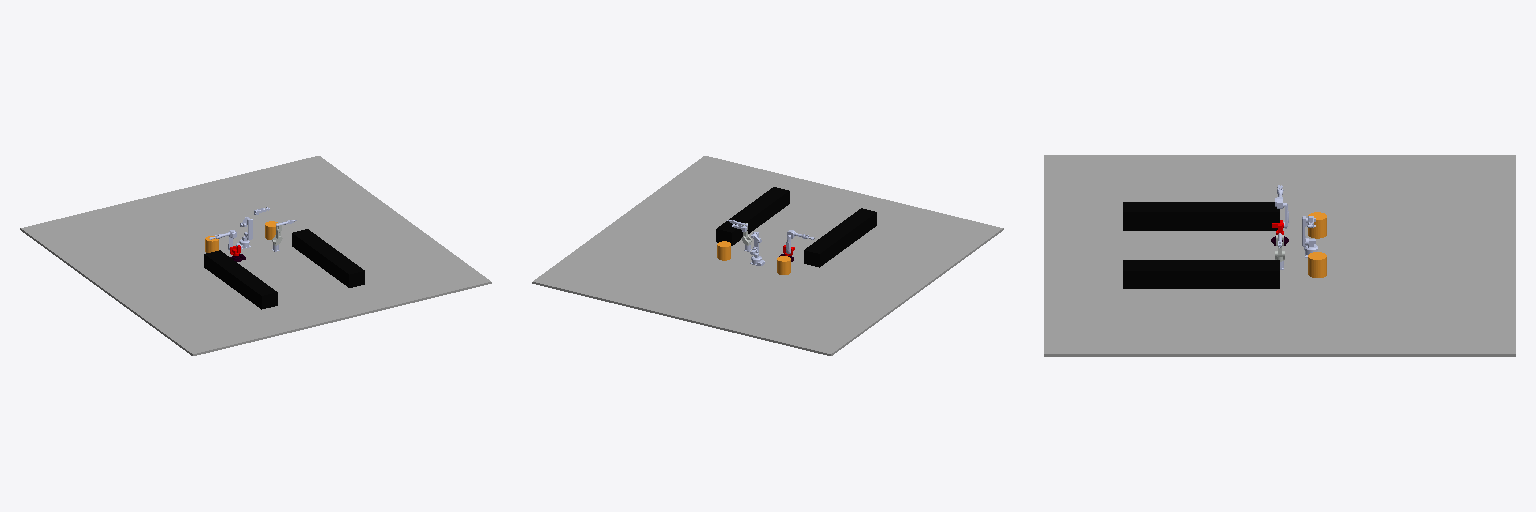
--- What the picture shows (computed from the rendered views, not written in the file) ---
3 views of the same robot in one strip: view 1: azimuth 30°, elevation 25°; view 2: azimuth 150°, elevation 25°; view 3: azimuth 270°, elevation 25° (orthographic).
Model my_robot with 33 links and 32 joints (18 revolute, 14 fixed), rooted at central_base_link, posed every joint at zero.
Links seen in each view (by area): view 1: main_workbench, main_workbench_3, main_workbench_2; view 2: main_workbench, main_workbench_3, main_workbench_2; view 3: main_workbench, main_workbench_2, main_workbench_3.
Link boxes in pixels (x1=…): main_workbench: x1=20, y1=156, x2=491, y2=355; main_workbench_3: x1=204, y1=250, x2=277, y2=309; main_workbench_2: x1=292, y1=229, x2=364, y2=287; main_workbench: x1=532, y1=156, x2=1003, y2=355; main_workbench_3: x1=804, y1=208, x2=876, y2=267; main_workbench_2: x1=716, y1=187, x2=789, y2=245; main_workbench: x1=1044, y1=155, x2=1515, y2=356; main_workbench_2: x1=1123, y1=260, x2=1279, y2=288; main_workbench_3: x1=1123, y1=202, x2=1279, y2=230.
Size in the robot's own frame: 15 by 15 by 1.7 metres.
Meshes: 26 distinct files referenced, 25 mesh visuals loaded (25 binary STL); not drawn: 2 (reference not matched to a file when rendering).

The robot description file, URDF, robot "my_robot":
<?xml version="1.0" ?>
<!-- =================================================================================== -->
<!-- |    This document was autogenerated by xacro from ../my_robot_urdf/urdf/robot.xacro | -->
<!-- |    EDITING THIS FILE BY HAND IS NOT RECOMMENDED                                 | -->
<!-- =================================================================================== -->
<robot name="my_robot">
    <link name="main_workbench">
        <inertial>
            <origin rpy="0 0 0" xyz="0 0 0.05" />
            <mass value="1000.0" />
            <inertia ixx="100" ixy="0" ixz="0" iyy="100" iyz="0" izz="100" />
        </inertial>
        <visual>
            <origin rpy="0 0 0" xyz="0 0 0.05" />
            <geometry>
                <box size="15 15 0.1" />
            </geometry>
            <material name="light_grey">
                <color rgba="0.7 0.7 0.7 1" />
                <!-- White grey color -->
            </material>
        </visual>
        <collision>
            <origin rpy="0 0 0" xyz="0 0 0.05" />
            <geometry>
                <box size="15 15 0.1" />
            </geometry>
        </collision>
    </link>
    <link name="main_workbench_2">
        <inertial>
            <origin rpy="0 0 0" xyz="0 0 0.375" />
            <mass value="1000.0" />
            <inertia ixx="100" ixy="0" ixz="0" iyy="100" iyz="0" izz="100" />
        </inertial>
        <visual>
            <origin rpy="0 0 0" xyz="0 0 0.375" />
            <geometry>
                <box size="0.8 5 0.75" />
            </geometry>
            <material name="rubber_black">
                <color rgba="0.05 0.05 0.05 1" />
                <!-- Dark grey to mimic black rubber -->
            </material>
        </visual>
        <collision>
            <origin rpy="0 0 0" xyz="0 0 0.375" />
            <geometry>
                <box size="0.8 5 0.75" />
            </geometry>
        </collision>
    </link>
    <link name="main_workbench_3">
        <inertial>
            <origin rpy="0 0 0" xyz="0 0 0.375" />
            <mass value="1000.0" />
            <inertia ixx="100" ixy="0" ixz="0" iyy="100" iyz="0" izz="100" />
        </inertial>
        <visual>
            <origin rpy="0 0 0" xyz="0 0 0.375" />
            <geometry>
                <box size="0.8 5 0.75" />
            </geometry>
            <material name="rubber_black">
                <color rgba="0.05 0.05 0.05 1" />
                <!-- Dark grey to mimic black rubber -->
            </material>
        </visual>
        <collision>
            <origin rpy="0 0 0" xyz="0 0 0.375" />
            <geometry>
                <box size="0.8 5 0.75" />
            </geometry>
        </collision>
    </link>
    <link name="centrifuge_1">
        <inertial>
            <origin rpy="0 0 0" xyz="0 0 0.375" />
            <mass value="500.0" />
            <!-- Assume a lighter mass for a centrifuge -->
            <inertia ixx="50" ixy="0" ixz="0" iyy="50" iyz="0" izz="50" />
            <!-- Adjusted inertia values for balance -->
        </inertial>
        <visual>
            <origin rpy="0 0 0" xyz="0 0 0.375" />
            <geometry>
                <cylinder length="0.75" radius="0.3" />
            </geometry>
            <material name="light_orange">
                <color rgba="1 0.65 0.2 1" />
                <!-- Light orange color -->
            </material>
        </visual>
        <collision>
            <origin rpy="0 0 0" xyz="0 0 0.375" />
            <geometry>
                <cylinder length="0.75" radius="0.3" />
            </geometry>
        </collision>
    </link>
    <link name="centrifuge_2">
        <inertial>
            <origin rpy="0 0 0" xyz="0 0 0.375" />
            <mass value="500.0" />
            <!-- Assume a lighter mass for a centrifuge -->
            <inertia ixx="50" ixy="0" ixz="0" iyy="50" iyz="0" izz="50" />
            <!-- Adjusted inertia values for balance -->
        </inertial>
        <visual>
            <origin rpy="0 0 0" xyz="0 0 0.375" />
            <geometry>
                <cylinder length="0.75" radius="0.3" />
            </geometry>
            <material name="light_orange">
                <color rgba="1 0.65 0.2 1" />
                <!-- Light orange color -->
            </material>
        </visual>
        <collision>
            <origin rpy="0 0 0" xyz="0 0 0.375" />
            <geometry>
                <cylinder length="0.75" radius="0.3" />
            </geometry>
        </collision>
    </link>
    <link name="centrifuge_link_1">
        <inertial>
            <origin rpy="0 0 0" xyz="0 0 0" />
            <mass value="1.0" />
            <inertia ixx="0.1" ixy="0" ixz="0" iyy="0.1" iyz="0" izz="0.1" />
        </inertial>
        <visual>
            <origin rpy="0 0 0" xyz="0 0 0" />
            <geometry>
                <mesh filename="package://my_robot_urdf/models/centrifuge.dae" scale="1 1 1" />
                <!-- Adjust scale as needed -->
            </geometry>
        </visual>
        <collision>
            <origin rpy="0 0 0" xyz="0 0 0" />
            <geometry>
                <mesh filename="package://my_robot_urdf/models/centrifuge.dae" scale="1 1 1" />
                <!-- Adjust scale as needed -->
            </geometry>
        </collision>
    </link>
    <link name="centrifuge_link_2">
        <inertial>
            <origin rpy="0 0 0" xyz="0 0 0" />
            <mass value="1.0" />
            <inertia ixx="0.1" ixy="0" ixz="0" iyy="0.1" iyz="0" izz="0.1" />
        </inertial>
        <visual>
            <origin rpy="0 0 0" xyz="0 0 0" />
            <geometry>
                <mesh filename="package://my_robot_urdf/models/centrifuge.dae" scale="1 1 1" />
                <!-- Adjust scale as needed -->
            </geometry>
        </visual>
        <collision>
            <origin rpy="0 0 0" xyz="0 0 0" />
            <geometry>
                <mesh filename="package://my_robot_urdf/models/centrifuge.dae" scale="1 1 1" />
                <!-- Adjust scale as needed -->
            </geometry>
        </collision>
    </link>
    <!-- Main body link (central base link) -->
    <link name="central_base_link">
        <origin rpy="0 0 0" xyz="0 0 1.5" />
        <!-- Adjusted to be above the workbench -->
    </link>
    <!-- Connect each workbench to the central base link with a fixed joint -->
    <joint name="base_to_workbench_1_joint" type="fixed">
        <parent link="central_base_link" />
        <child link="main_workbench" />
        <origin rpy="0 0 0" xyz="0 0 0" />
    </joint>
    <joint name="base_to_workbench_2_joint" type="fixed">
        <parent link="central_base_link" />
        <child link="main_workbench_2" />
        <origin rpy="0 0 0" xyz="2.2 -2.5 0" />
    </joint>
    <joint name="base_to_workbench_3_joint" type="fixed">
        <parent link="central_base_link" />
        <child link="main_workbench_3" />
        <origin rpy="0 0 0" xyz="-2.2 -2.5 0" />
    </joint>
    <!-- Connect each centrifuge to the central base link with a fixed joint -->
    <joint name="base_to_centrifuge_1_joint" type="fixed">
        <parent link="central_base_link" />
        <child link="centrifuge_1" />
        <origin rpy="0 0 0" xyz="1.5 1.2 0" />
    </joint>
    <joint name="base_to_centrifuge_2_joint" type="fixed">
        <parent link="central_base_link" />
        <child link="centrifuge_2" />
        <origin rpy="0 0 0" xyz="-1.5 1.2 0" />
    </joint>
    <joint name="base_to_centrifuge_model_1_joint" type="fixed">
        <parent link="central_base_link" />
        <child link="centrifuge_link_1" />
        <origin rpy="1.570796326795 0 0" xyz="1.5 1.2 0.9379" />
    </joint>
    <joint name="base_to_centrifuge_model_2_joint" type="fixed">
        <parent link="central_base_link" />
        <child link="centrifuge_link_2" />
        <origin rpy="1.570796326795 0 0" xyz="-1.5 1.2 0.9379" />
    </joint>
    <link name="alex_base_link_alex">
        <inertial>
            <origin rpy="0 0 0" xyz="-0.05930869488714 -2.87595388123997E-12 0.0776653157730273" />
            <mass value="33.891578448587" />
            <inertia ixx="0.562042604088221" ixy="-9.14377057009813E-12" ixz="0.00403961419511078" iyy="0.970694427805805" iyz="-7.30601565928646E-12" izz="1.29713482615658" />
        </inertial>
        <visual>
            <origin rpy="0 0 0" xyz="0 0 0" />
            <geometry>
                <mesh filename="package://my_robot_urdf/meshes/base_link_alex.STL" />
            </geometry>
            <material name="">
                <color rgba="0.152941176470588 0 0.117647058823529 1" />
            </material>
        </visual>
        <collision>
            <origin rpy="0 0 0" xyz="0 0 0" />
            <geometry>
                <mesh filename="package://my_robot_urdf/meshes/base_link_alex.STL" />
            </geometry>
        </collision>
    </link>
    <!-- Define the joint connecting this arm to the parent link -->
    <joint name="alex_base_joint_alex" type="fixed">
        <origin rpy="0 0 3.14159265359" xyz="-1 0 0.1" />
        <parent link="central_base_link" />
        <child link="alex_base_link_alex" />
    </joint>
    <link name="alex_arm_link_1_alex">
        <inertial>
            <origin rpy="0 0 0" xyz="0.0416589398280025 -3.68988089329334E-05 0.19712083516126" />
            <mass value="26.7048266497369" />
            <inertia ixx="0.495499615132855" ixy="-0.0102760504758245" ixz="-0.0600935399650257" iyy="0.766768677077223" iyz="-0.0115358881770517" izz="0.604967931690783" />
        </inertial>
        <visual>
            <origin rpy="0 0 0" xyz="0 0 0" />
            <geometry>
                <mesh filename="package://my_robot_urdf/meshes/arm_link_1_alex.STL" />
            </geometry>
            <material name="">
                <color rgba="1 0 0 1" />
            </material>
        </visual>
        <collision>
            <origin rpy="0 0 0" xyz="0 0 0" />
            <geometry>
                <mesh filename="package://my_robot_urdf/meshes/arm_link_1_alex.STL" />
            </geometry>
        </collision>
    </link>
    <joint name="alex_arm_joint_1_alex" type="revolute">
        <origin rpy="0 0 0" xyz="0 0 0.234" />
        <parent link="alex_base_link_alex" />
        <child link="alex_arm_link_1_alex" />
        <axis xyz="0 0 1" />
        <limit effort="0" lower="-3.1416" upper="3.1416" velocity="0" />
    </joint>
    <link name="alex_arm_link_2_alex">
        <inertial>
            <origin rpy="0 0 0" xyz="0.000258724363916746 -0.0707589768311214 0.290203503422467" />
            <mass value="14.3270690802686" />
            <inertia ixx="0.848873613210201" ixy="0.000175299197197544" ixz="-4.64678003354308E-05" iyy="0.874803778149419" iyz="0.0137202067906074" izz="0.0504590836189902" />
        </inertial>
        <visual>
            <origin rpy="0 0 0" xyz="0 0 0" />
            <geometry>
                <mesh filename="package://my_robot_urdf/meshes/arm_link_2_alex.STL" />
            </geometry>
            <material name="">
                <color rgba="0.792156862745098 0.819607843137255 0.933333333333333 1" />
            </material>
        </visual>
        <collision>
            <origin rpy="0 0 0" xyz="0 0 0" />
            <geometry>
                <mesh filename="package://my_robot_urdf/meshes/arm_link_2_alex.STL" />
            </geometry>
        </collision>
    </link>
    <joint name="alex_arm_joint_2_alex" type="revolute">
        <origin rpy="0 0 0" xyz="0.15 -0.1375 0.265" />
        <parent link="alex_arm_link_1_alex" />
        <child link="alex_arm_link_2_alex" />
        <axis xyz="0 1 0" />
        <limit effort="0" lower="-3.1416" upper="3.1416" velocity="0" />
    </joint>
    <link name="alex_arm_link_3_alex">
        <inertial>
            <origin rpy="0 0 0" xyz="0.0362614171159604 0.143132908024542 0.0664637155357433" />
            <mass value="27.1450417424437" />
            <inertia ixx="0.344868303293537" ixy="0.00338242702861572" ixz="-0.0211648441841246" iyy="0.473964503565446" iyz="-0.00675660536457731" izz="0.420912669748457" />
        </inertial>
        <visual>
            <origin rpy="0 0 0" xyz="0 0 0" />
            <geometry>
                <mesh filename="package://my_robot_urdf/meshes/arm_link_3_alex.STL" />
            </geometry>
            <material name="">
                <color rgba="0.792156862745098 0.819607843137255 0.933333333333333 1" />
            </material>
        </visual>
        <collision>
            <origin rpy="0 0 0" xyz="0 0 0" />
            <geometry>
                <mesh filename="package://my_robot_urdf/meshes/arm_link_3_alex.STL" />
            </geometry>
        </collision>
    </link>
    <joint name="alex_arm_joint_3_alex" type="revolute">
        <origin rpy="0 0 0" xyz="0 0 0.7" />
        <parent link="alex_arm_link_2_alex" />
        <child link="alex_arm_link_3_alex" />
        <axis xyz="0 1 0" />
        <limit effort="0" lower="-3.1416" upper="3.1416" velocity="0" />
    </joint>
    <link name="alex_arm_link_4_alex">
        <inertial>
            <origin rpy="0 0 0" xyz="0.316053837217416 -9.61729624260159E-07 4.81067610857977E-07" />
            <mass value="9.30858027519608" />
            <inertia ixx="0.0348463133234508" ixy="7.6582656016075E-07" ixz="3.49084068434524E-07" iyy="0.25723918092213" iyz="0.000166705964846771" izz="0.264212206266023" />
        </inertial>
        <visual>
            <origin rpy="0 0 0" xyz="0 0 0" />
            <geometry>
                <mesh filename="package://my_robot_urdf/meshes/arm_link_4_alex.STL" />
            </geometry>
            <material name="">
                <color rgba="0.792156862745098 0.819607843137255 0.933333333333333 1" />
            </material>
        </visual>
        <collision>
            <origin rpy="0 0 0" xyz="0 0 0" />
            <geometry>
                <mesh filename="package://my_robot_urdf/meshes/arm_link_4_alex.STL" />
            </geometry>
        </collision>
    </link>
    <joint name="alex_arm_joint_4_alex" type="revolute">
        <origin rpy="0 0 0" xyz="0.29 0.13 0.115" />
        <parent link="alex_arm_link_3_alex" />
        <child link="alex_arm_link_4_alex" />
        <axis xyz="1 0 0" />
        <limit effort="0" lower="-3.1416" upper="3.1416" velocity="0" />
    </joint>
    <link name="alex_arm_link_5_alex">
        <inertial>
            <origin rpy="0 0 0" xyz="-0.00224018993807718 -4.63651143520205E-10 7.93515697594671E-10" />
            <mass value="0.961734748124672" />
            <inertia ixx="0.00154678090917305" ixy="1.419698244829E-11" ixz="-8.85889011205107E-10" iyy="0.00165625576362529" iyz="-9.91727417077089E-10" izz="0.00143991315628678" />
        </inertial>
        <visual>
            <origin rpy="0 0 0" xyz="0 0 0" />
            <geometry>
                <mesh filename="package://my_robot_urdf/meshes/arm_link_5_alex.STL" />
            </geometry>
            <material name="">
                <color rgba="0.792156862745098 0.819607843137255 0.933333333333333 1" />
            </material>
        </visual>
        <collision>
            <origin rpy="0 0 0" xyz="0 0 0" />
            <geometry>
                <mesh filename="package://my_robot_urdf/meshes/arm_link_5_alex.STL" />
            </geometry>
        </collision>
    </link>
    <joint name="alex_arm_joint_5_alex" type="revolute">
        <origin rpy="0 0 0" xyz="0.51 0 0" />
        <parent link="alex_arm_link_4_alex" />
        <child link="alex_arm_link_5_alex" />
        <axis xyz="0 1 0" />
        <limit effort="0" lower="-3.1416" upper="3.1416" velocity="0" />
    </joint>
    <link name="alex_arm_link_6_alex">
        <inertial>
            <origin rpy="0 0 0" xyz="2.47238264115129E-08 2.05183470214365E-09 0.0527259633442777" />
            <mass value="0.288779624800079" />
            <inertia ixx="0.000386925186804296" ixy="-2.51402341991393E-12" ixz="-3.11942264818914E-13" iyy="0.000386925215104184" iyz="-2.74312811357832E-14" izz="0.000212753902483571" />
        </inertial>
        <visual>
            <origin rpy="0 0 0" xyz="0 0 0" />
            <geometry>
                <mesh filename="package://my_robot_urdf/meshes/arm_link_6_alex.STL" />
            </geometry>
            <material name="">
                <color rgba="0.792156862745098 0.819607843137255 0.933333333333333 1" />
            </material>
        </visual>
        <collision>
            <origin rpy="0 0 0" xyz="0 0 0" />
            <geometry>
                <mesh filename="package://my_robot_urdf/meshes/arm_link_6_alex.STL" />
            </geometry>
        </collision>
    </link>
    <joint name="alex_arm_joint_6_alex" type="revolute">
        <origin rpy="1.5708 0 1.5708" xyz="0.045 0 0" />
        <parent link="alex_arm_link_5_alex" />
        <child link="alex_arm_link_6_alex" />
        <axis xyz="0 0 1" />
        <limit effort="0" lower="-1.5708" upper="4.7124" velocity="0" />
    </joint>
    <link name="alex_eef_link_alex">
        <inertial>
            <origin rpy="0 0 0" xyz="2.38264269425414E-13 -2.66453525910038E-15 -0.0980561329200587" />
            <mass value="1.45406661810263" />
            <inertia ixx="0.00681334885577991" ixy="4.74320102087839E-09" ixz="-7.63267180505381E-14" iyy="0.00863071846569575" iyz="4.48393921534639E-16" izz="0.00243700011056295" />
        </inertial>
        <visual>
            <origin rpy="0 0 0" xyz="0 0 0" />
            <geometry>
                <mesh filename="package://my_robot_urdf/meshes/eef_link_alex.STL" />
            </geometry>
            <material name="">
                <color rgba="0.792156862745098 0.819607843137255 0.933333333333333 1" />
            </material>
        </visual>
        <collision>
            <origin rpy="0 0 0" xyz="0 0 0" />
            <geometry>
                <mesh filename="package://my_robot_urdf/meshes/eef_link_alex.STL" />
            </geometry>
        </collision>
    </link>
    <joint name="alex_eef_joint_fixed_alex" type="fixed">
        <origin rpy="0 0 3.1416" xyz="0 0 0.32173" />
        <parent link="alex_arm_link_6_alex" />
        <child link="alex_eef_link_alex" />
        <axis xyz="0 0 0" />
    </joint>
    <link name="coco_base_link_coco">
        <inertial>
            <origin rpy="0 0 0" xyz="-0.0764021530191944 2.71349348865524E-05 0.0792317455056668" />
            <mass value="33.7641312353281" />
            <inertia ixx="0.388653917501998" ixy="3.75787448655195E-18" ixz="6.82570301647603E-05" iyy="0.347678993710906" iyz="8.89625811535709E-18" izz="0.646698533818771" />
        </inertial>
        <visual>
            <origin rpy="0 0 0" xyz="0 0 0" />
            <geometry>
                <mesh filename="package://my_robot_urdf/meshes/base_link_coco.STL" />
            </geometry>
            <material name="">
                <color rgba="0.792156862745098 0.819607843137255 0.933333333333333 1" />
            </material>
        </visual>
        <collision>
            <origin rpy="0 0 0" xyz="0 0 0" />
            <geometry>
                <mesh filename="package://my_robot_urdf/meshes/base_link_coco.STL" />
            </geometry>
        </collision>
    </link>
    <!-- Define the joint connecting this arm to the parent link -->
    <joint name="coco_base_joint_coco" type="fixed">
        <origin rpy="0 0 0" xyz="0 1 0.1" />
        <parent link="central_base_link" />
        <child link="coco_base_link_coco" />
    </joint>
    <link name="coco_arm_link_1_coco">
        <inertial>
            <origin rpy="0 0 0" xyz="0.0310954578647585 -0.00332496023117675 0.134341853376388" />
            <mass value="28.7973325809481" />
            <inertia ixx="0.316024916828851" ixy="-0.000189061034524887" ixz="-0.0129236801369765" iyy="0.322997369549128" iyz="-0.000316914959622081" izz="0.500692862333896" />
        </inertial>
        <visual>
            <origin rpy="0 0 0" xyz="0 0 0" />
            <geometry>
                <mesh filename="package://my_robot_urdf/meshes/arm_link_1_coco.STL" />
            </geometry>
            <material name="">
                <color rgba="0.792156862745098 0.819607843137255 0.933333333333333 1" />
            </material>
        </visual>
        <collision>
            <origin rpy="0 0 0" xyz="0 0 0" />
            <geometry>
                <mesh filename="package://my_robot_urdf/meshes/arm_link_1_coco.STL" />
            </geometry>
        </collision>
    </link>
    <joint name="coco_joint_link_1_coco" type="revolute">
        <origin rpy="0 0 0" xyz="0 0 0.18" />
        <parent link="coco_base_link_coco" />
        <child link="coco_arm_link_1_coco" />
        <axis xyz="0 0 1" />
        <limit effort="0" lower="-3.1416" upper="3.1416" velocity="0" />
    </joint>
    <link name="coco_arm_link_2_coco">
        <inertial>
            <origin rpy="0 0 0" xyz="-0.000939286587736787 0.316348210123726 0.119016776091287" />
            <mass value="29.9902849835083" />
            <inertia ixx="2.04087599375796" ixy="6.72038874095361E-18" ixz="2.43431801579158E-17" iyy="0.14290036636914" iyz="1.09136139887468E-17" izz="2.11684381896841" />
        </inertial>
        <visual>
            <origin rpy="0 0 0" xyz="0 0 0" />
            <geometry>
                <mesh filename="package://my_robot_urdf/meshes/arm_link_2_coco.STL" />
            </geometry>
            <material name="">
                <color rgba="0.792156862745098 0.819607843137255 0.933333333333333 1" />
            </material>
        </visual>
        <collision>
            <origin rpy="0 0 0" xyz="0 0 0" />
            <geometry>
                <mesh filename="package://my_robot_urdf/meshes/arm_link_2_coco.STL" />
            </geometry>
        </collision>
    </link>
    <joint name="coco_joint_link_2_coco" type="revolute">
        <origin rpy="1.5708 0 0" xyz="0.14579 -0.090292 0.33595" />
        <parent link="coco_arm_link_1_coco" />
        <child link="coco_arm_link_2_coco" />
        <axis xyz="0 0 1" />
        <limit effort="0" lower="-3.1416" upper="3.1416" velocity="0" />
    </joint>
    <link name="coco_arm_link_3_coco">
        <inertial>
            <origin rpy="0 0 0" xyz="-0.106966394959347 0.0865335610269826 0.0663605481820073" />
            <mass value="16.1199771168543" />
            <inertia ixx="0.137763861529296" ixy="0.0959483935903455" ixz="-0.0167225971301647" iyy="0.190812936291584" iyz="0.012987856550598" izz="0.261074961271267" />
        </inertial>
        <visual>
            <origin rpy="0 0 0" xyz="0 0 0" />
            <geometry>
                <mesh filename="package://my_robot_urdf/meshes/arm_link_3_coco.STL" />
            </geometry>
            <material name="">
                <color rgba="0.792156862745098 0.819607843137255 0.933333333333333 1" />
            </material>
        </visual>
        <collision>
            <origin rpy="0 0 0" xyz="0 0 0" />
            <geometry>
                <mesh filename="package://my_robot_urdf/meshes/arm_link_3_coco.STL" />
            </geometry>
        </collision>
    </link>
    <joint name="coco_joint_link_3_coco" type="revolute">
        <origin rpy="3.1416 0 3.1416" xyz="0.0017779 0.76236 0" />
        <parent link="coco_arm_link_2_coco" />
        <child link="coco_arm_link_3_coco" />
        <axis xyz="0 0 -1" />
        <limit effort="0" lower="-3.1416" upper="3.1416" velocity="0" />
    </joint>
    <link name="coco_arm_link_4_coco">
        <inertial>
            <origin rpy="0 0 0" xyz="0.00589018251913124 0.0329551371731716 0.164539778953426" />
            <mass value="8.2144132017799" />
            <inertia ixx="0.160372113366996" ixy="-1.53545094183617E-06" ixz="-1.62360283324988E-05" iyy="0.164102263665489" iyz="-0.0168710233275404" izz="0.0518416725365331" />
        </inertial>
        <visual>
            <origin rpy="0 0 0" xyz="0 0 0" />
            <geometry>
                <mesh filename="package://my_robot_urdf/meshes/arm_link_4_coco.STL" />
            </geometry>
            <material name="">
                <color rgba="0.792156862745098 0.819607843137255 0.933333333333333 1" />
            </material>
        </visual>
        <collision>
            <origin rpy="0 0 0" xyz="0 0 0" />
            <geometry>
                <mesh filename="package://my_robot_urdf/meshes/arm_link_4_coco.STL" />
            </geometry>
        </collision>
    </link>
    <joint name="coco_joint_link_4_coco" type="revolute">
        <origin rpy="3.1416 -1.5708 3.1416" xyz="-0.34817 0.19918 0.073652" />
        <parent link="coco_arm_link_3_coco" />
        <child link="coco_arm_link_4_coco" />
        <axis xyz="0 0 1" />
        <limit effort="0" lower="-3.1416" upper="3.1416" velocity="0" />
    </joint>
    <link name="coco_arm_link_5_coco">
        <inertial>
            <origin rpy="0 0 0" xyz="0.010949759264604 0.000150612983941256 -0.00279641564862637" />
            <mass value="1.15468077380916" />
            <inertia ixx="0.0024180307299129" ixy="-7.71125501828698E-06" ixz="6.55345310597226E-07" iyy="0.00301389716175276" iyz="9.01091984503082E-09" izz="0.00180806969473038" />
        </inertial>
        <visual>
            <origin rpy="0 0 0" xyz="0 0 0" />
            <geometry>
                <mesh filename="package://my_robot_urdf/meshes/arm_link_5_coco.STL" />
            </geometry>
            <material name="">
                <color rgba="0.792156862745098 0.819607843137255 0.933333333333333 1" />
            </material>
        </visual>
        <collision>
            <origin rpy="0 0 0" xyz="0 0 0" />
            <geometry>
                <mesh filename="package://my_robot_urdf/meshes/arm_link_5_coco.STL" />
            </geometry>
        </collision>
    </link>
    <joint name="coco_joint_link_5_coco" type="revolute">
        <origin rpy="3.1416 -1.5708 0" xyz="0 0.0656 0.50466" />
        <parent link="coco_arm_link_4_coco" />
        <child link="coco_arm_link_5_coco" />
        <axis xyz="0 0 1" />
        <limit effort="0" lower="-3.1416" upper="3.1416" velocity="0" />
    </joint>
    <link name="coco_arm_link_6_coco">
        <inertial>
            <origin rpy="0 0 0" xyz="-5.1833373264849E-05 0.000526764504232613 0.074050240735366" />
            <mass value="1.15468077380916" />
            <inertia ixx="0.00180806969473038" ixy="9.01091984507194E-09" ixz="6.55345310597047E-07" iyy="0.00301389716175276" iyz="-7.71125501828711E-06" izz="0.0024180307299129" />
        </inertial>
        <visual>
            <origin rpy="0 0 0" xyz="0 0 0" />
            <geometry>
                <mesh filename="package://my_robot_urdf/meshes/arm_link_6_coco.STL" />
            </geometry>
            <material name="">
                <color rgba="0.792156862745098 0.819607843137255 0.933333333333333 1" />
            </material>
        </visual>
        <collision>
            <origin rpy="0 0 0" xyz="0 0 0" />
            <geometry>
                <mesh filename="package://my_robot_urdf/meshes/arm_link_6_coco.STL" />
            </geometry>
        </collision>
    </link>
    <joint name="coco_arm_joint_6_coco" type="revolute">
        <origin rpy="0 1.5708 0" xyz="0.085 0.00067738 -0.0028482" />
        <parent link="coco_arm_link_5_coco" />
        <child link="coco_arm_link_6_coco" />
        <axis xyz="0 0 -1" />
        <limit effort="0" lower="-3.1416" upper="3.1416" velocity="0" />
    </joint>
    <link name="coco_eef_link_1_coco">
        <inertial>
            <origin rpy="0 0 0" xyz="3.29649640917751E-11 -9.235071400715E-05 -0.124708296392705" />
            <mass value="0.15332063940157" />
            <inertia ixx="8.3412429703298E-05" ixy="9.18634115356551E-14" ixz="-1.79341490009726E-13" iyy="8.37120102622999E-05" iyz="1.37052372054436E-07" izz="0.000136601285012748" />
        </inertial>
        <visual>
            <origin rpy="0 0 0" xyz="0 0 0" />
            <geometry>
                <mesh filename="package://my_robot_urdf/meshes/eef_link_1_coco.STL" />
            </geometry>
            <material name="">
                <color rgba="0.792156862745098 0.819607843137255 0.933333333333333 1" />
            </material>
        </visual>
        <collision>
            <origin rpy="0 0 0" xyz="0 0 0" />
            <geometry>
                <mesh filename="package://my_robot_urdf/meshes/eef_link_1_coco.STL" />
            </geometry>
        </collision>
    </link>
    <joint name="coco_eef_joint_1_fixed_coco" type="fixed">
        <origin rpy="-1.5708 0 -1.5708" xyz="0.20975 0.00067738 0.085" />
        <parent link="coco_arm_link_6_coco" />
        <child link="coco_eef_link_1_coco" />
        <axis xyz="0 0 0" />
    </joint>
    <link name="coco_eef_link_2_coco">
        <inertial>
            <origin rpy="0 0 0" xyz="0 0 -0.0480792617128722" />
            <mass value="0.158859300753402" />
            <inertia ixx="0.000149672253524412" ixy="-4.9614680881843E-21" ixz="7.79229232056955E-22" iyy="0.000192557897320206" iyz="1.28004734861553E-20" izz="0.00016094527647324" />
        </inertial>
        <visual>
            <origin rpy="0 0 0" xyz="0 0 0" />
            <geometry>
                <mesh filename="package://my_robot_urdf/meshes/eef_link_2_coco.STL" />
            </geometry>
            <material name="">
                <color rgba="0.792156862745098 0.819607843137255 0.933333333333333 1" />
            </material>
        </visual>
        <collision>
            <origin rpy="0 0 0" xyz="0 0 0" />
            <geometry>
                <mesh filename="package://my_robot_urdf/meshes/eef_link_2_coco.STL" />
            </geometry>
        </collision>
    </link>
    <joint name="coco_eef_joint_2_fixed_coco" type="fixed">
        <origin rpy="-1.5708 0 1.5708" xyz="-0.13985 0.00067738 0.085" />
        <parent link="coco_arm_link_6_coco" />
        <child link="coco_eef_link_2_coco" />
        <axis xyz="0 0 0" />
    </joint>
    <link name="yuzi_base_link_yuzi">
        <inertial>
            <origin rpy="0 0 0" xyz="-5.25107086452931E-18 -9.69114882893545E-18 0.131559716820544" />
            <mass value="13.926198063469" />
            <inertia ixx="0.150359375184122" ixy="6.0351097491869E-18" ixz="-1.94834723594448E-17" iyy="0.150359375184122" iyz="-1.44976161137733E-17" izz="0.11575755967506" />
        </inertial>
        <visual>
            <origin rpy="0 0 0" xyz="0 0 0" />
            <geometry>
                <mesh filename="package://my_robot_urdf/meshes/base_link_yuzi.STL" />
            </geometry>
            <material name="">
                <color rgba="0.792156862745098 0.819607843137255 0.933333333333333 1" />
            </material>
        </visual>
        <collision>
            <origin rpy="0 0 0" xyz="0 0 0" />
            <geometry>
                <mesh filename="package://my_robot_urdf/meshes/base_link_yuzi.STL" />
            </geometry>
        </collision>
    </link>
    <!-- Define the joint connecting this arm to the parent link -->
    <joint name="yuzi_base_joint_yuzi" type="fixed">
        <origin rpy="0 0 0" xyz="1 0 0.1" />
        <parent link="central_base_link" />
        <child link="yuzi_base_link_yuzi" />
    </joint>
    <link name="yuzi_arm_link_1_yuzi">
        <inertial>
            <origin rpy="0 0 0" xyz="0.0393277653963038 1.00151935086465E-07 0.150866622191122" />
            <mass value="17.6840361237851" />
            <inertia ixx="0.387077403080444" ixy="3.67268000731293E-07" ixz="-0.0824473388415476" iyy="0.281535059283111" iyz="6.77341185639246E-08" izz="0.349932526197817" />
        </inertial>
        <visual>
            <origin rpy="0 0 0" xyz="0 0 0" />
            <geometry>
                <mesh filename="package://my_robot_urdf/meshes/arm_link_1_yuzi.STL" />
            </geometry>
            <material name="">
                <color rgba="0.780392156862745 0.8 0.788235294117647 1" />
            </material>
        </visual>
        <collision>
            <origin rpy="0 0 0" xyz="0 0 0" />
            <geometry>
                <mesh filename="package://my_robot_urdf/meshes/arm_link_1_yuzi.STL" />
            </geometry>
        </collision>
    </link>
    <joint name="yuzi_arm_joint_1_yuzi" type="revolute">
        <origin rpy="0 0 0" xyz="0 0 0.274" />
        <parent link="yuzi_base_link_yuzi" />
        <child link="yuzi_arm_link_1_yuzi" />
        <axis xyz="0 0 1" />
        <limit effort="0" lower="-3.1416" upper="3.1416" velocity="0" />
    </joint>
    <link name="yuzi_arm_link_2_yuzi">
        <inertial>
            <origin rpy="0 0 0" xyz="5.931859369257E-07 -0.202994951659398 -0.00270543986390563" />
            <mass value="21.695061095067" />
            <inertia ixx="0.29491156513822" ixy="2.31415083687633E-06" ixz="1.23997830829163E-09" iyy="0.0783160010403902" iyz="0.000394743850237622" izz="0.301877815458434" />
        </inertial>
        <visual>
            <origin rpy="0 0 0" xyz="0 0 0" />
            <geometry>
                <mesh filename="package://my_robot_urdf/meshes/arm_link_2_yuzi.STL" />
            </geometry>
            <material name="">
                <color rgba="0.780392156862745 0.8 0.788235294117647 1" />
            </material>
        </visual>
        <collision>
            <origin rpy="0 0 0" xyz="0 0 0" />
            <geometry>
                <mesh filename="package://my_robot_urdf/meshes/arm_link_2_yuzi.STL" />
            </geometry>
        </collision>
    </link>
    <joint name="yuzi_arm_joint_2_yuzi" type="revolute">
        <origin rpy="-1.5708 0 3.1416" xyz="0.15 0 0.29" />
        <parent link="yuzi_arm_link_1_yuzi" />
        <child link="yuzi_arm_link_2_yuzi" />
        <axis xyz="0 0 -1" />
        <limit effort="0" lower="-1.5708" upper="1.5708" velocity="0" />
    </joint>
    <link name="yuzi_arm_link_3_yuzi">
        <inertial>
            <origin rpy="0 0 0" xyz="0.000448863422053053 -0.0261515151771508 -0.00178825757800023" />
            <mass value="4.48725682214162" />
            <inertia ixx="0.00921991972060868" ixy="4.02687063686657E-19" ixz="-7.15729755686699E-35" iyy="0.0233991913614871" iyz="1.50053365905829E-35" izz="0.0219081787552183" />
        </inertial>
        <visual>
            <origin rpy="0 0 0" xyz="0 0 0" />
            <geometry>
                <mesh filename="package://my_robot_urdf/meshes/arm_link_3_yuzi.STL" />
            </geometry>
            <material name="">
                <color rgba="0.792156862745098 0.819607843137255 0.933333333333333 1" />
            </material>
        </visual>
        <collision>
            <origin rpy="0 0 0" xyz="0 0 0" />
            <geometry>
                <mesh filename="package://my_robot_urdf/meshes/arm_link_3_yuzi.STL" />
            </geometry>
        </collision>
    </link>
    <joint name="yuzi_arm_joint_3_yuzi" type="revolute">
        <origin rpy="0 0 0" xyz="0 -0.575 0" />
        <parent link="yuzi_arm_link_2_yuzi" />
        <child link="yuzi_arm_link_3_yuzi" />
        <axis xyz="0 0 -1" />
        <limit effort="0" lower="-1.5708" upper="1.5708" velocity="0" />
    </joint>
    <link name="yuzi_arm_link_4_yuzi">
        <inertial>
            <origin rpy="0 0 0" xyz="6.66133814775094E-16 0.000932919736385606 0.288902507196118" />
            <mass value="7.8906783291211" />
            <inertia ixx="0.0897241931118627" ixy="-2.23893475246992E-19" ixz="-9.51519221962284E-19" iyy="0.0881400417573612" iyz="-0.000989909842324874" izz="0.0169814358788831" />
        </inertial>
        <visual>
            <origin rpy="0 0 0" xyz="0 0 0" />
            <geometry>
                <mesh filename="package://my_robot_urdf/meshes/arm_link_4_yuzi.STL" />
            </geometry>
            <material name="">
                <color rgba="0.792156862745098 0.819607843137255 0.933333333333333 1" />
            </material>
        </visual>
        <collision>
            <origin rpy="0 0 0" xyz="0 0 0" />
            <geometry>
                <mesh filename="package://my_robot_urdf/meshes/arm_link_4_yuzi.STL" />
            </geometry>
        </collision>
    </link>
    <joint name="yuzi_arm_joint_4_yuzi" type="revolute">
        <origin rpy="1.5708 0 -1.5708" xyz="-0.1295 -0.04 -0.003" />
        <parent link="yuzi_arm_link_3_yuzi" />
        <child link="yuzi_arm_link_4_yuzi" />
        <axis xyz="0 0 1" />
        <limit effort="0" lower="-3.1416" upper="3.1416" velocity="0" />
    </joint>
    <link name="yuzi_arm_link_5_yuzi">
        <inertial>
            <origin rpy="0 0 0" xyz="-0.0209881134676554 -1.11622497689368E-07 -0.00829305633881015" />
            <mass value="0.684392926448249" />
            <inertia ixx="0.000641087602858553" ixy="-1.13848125275888E-09" ixz="0.000110196226559993" iyy="0.00118845959430424" iyz="8.1268868198354E-12" izz="0.0013177404399051" />
        </inertial>
        <visual>
            <origin rpy="0 0 0" xyz="0 0 0" />
            <geometry>
                <mesh filename="package://my_robot_urdf/meshes/arm_link_5_yuzi.STL" />
            </geometry>
            <material name="">
                <color rgba="0.792156862745098 0.819607843137255 0.933333333333333 1" />
            </material>
        </visual>
        <collision>
            <origin rpy="0 0 0" xyz="0 0 0" />
            <geometry>
                <mesh filename="package://my_robot_urdf/meshes/arm_link_5_yuzi.STL" />
            </geometry>
        </collision>
    </link>
    <joint name="yuzi_arm_joint_5_yuzi" type="revolute">
        <origin rpy="-1.5708 1.5708 0" xyz="0 0 0.5455" />
        <parent link="yuzi_arm_link_4_yuzi" />
        <child link="yuzi_arm_link_5_yuzi" />
        <axis xyz="0 0 1" />
        <limit effort="0" lower="-1.5708" upper="1.5708" velocity="0" />
    </joint>
    <link name="yuzi_arm_link_6_yuzi">
        <inertial>
            <origin rpy="0 0 0" xyz="-1.11022302462516E-15 1.66967134562768E-15 0.0364608960848188" />
            <mass value="0.190738563830904" />
            <inertia ixx="0.000165744627457126" ixy="2.87815384189059E-22" ixz="-1.96348501644814E-20" iyy="0.000161337003377479" iyz="8.04929607286269E-21" izz="8.21544962643498E-05" />
        </inertial>
        <visual>
            <origin rpy="0 0 0" xyz="0 0 0" />
            <geometry>
                <mesh filename="package://my_robot_urdf/meshes/arm_link_6_yuzi.STL" />
            </geometry>
            <material name="">
                <color rgba="0.792156862745098 0.819607843137255 0.933333333333333 1" />
            </material>
        </visual>
        <collision>
            <origin rpy="0 0 0" xyz="0 0 0" />
            <geometry>
                <mesh filename="package://my_robot_urdf/meshes/arm_link_6_yuzi.STL" />
            </geometry>
        </collision>
    </link>
    <joint name="yuzi_arm_joint_6_yuzi" type="revolute">
        <origin rpy="-1.5708 0 1.5708" xyz="-0.085 0 0" />
        <parent link="yuzi_arm_link_5_yuzi" />
        <child link="yuzi_arm_link_6_yuzi" />
        <axis xyz="0 0 1" />
        <limit effort="0" lower="-3.1416" upper="3.1416" velocity="0" />
    </joint>
    <link name="yuzi_eef_link_yuzi">
        <inertial>
            <origin rpy="0 0 0" xyz="-0.00215923528943862 -1.34441069388203E-17 -0.0685050835227634" />
            <mass value="0.190738563830904" />
            <inertia ixx="0.000165661665669484" ixy="6.02940705304147E-22" ixz="-2.63209119423623E-06" iyy="0.000161337003377479" iyz="1.01035149151913E-20" izz="8.22374580519918E-05" />
        </inertial>
        <visual>
            <origin rpy="0 0 0" xyz="0 0 0" />
            <geometry>
                <mesh filename="package://my_robot_urdf/meshes/eef_link_yuzi.STL" />
            </geometry>
            <material name="">
                <color rgba="0.792156862745098 0.819607843137255 0.933333333333333 1" />
            </material>
        </visual>
        <collision>
            <origin rpy="0 0 0" xyz="0 0 0" />
            <geometry>
                <mesh filename="package://my_robot_urdf/meshes/eef_link_yuzi.STL" />
            </geometry>
        </collision>
    </link>
    <joint name="yuzi_eef_joint_fixed_yuzi" type="fixed">
        <origin rpy="0 -0.031509 0" xyz="0 0 0.105" />
        <parent link="yuzi_arm_link_6_yuzi" />
        <child link="yuzi_eef_link_yuzi" />
        <axis xyz="0 0 0" />
    </joint>
    <transmission name="trans_alex_arm_joint_1_alex">
        <type>transmission_interface/SimpleTransmission</type>
        <joint name="alex_arm_joint_1_alex">
            <hardwareInterface>hardware_interface/EffortJointInterface</hardwareInterface>
        </joint>
        <actuator name="alex_arm_joint_1_alex_motor">
            <hardwareInterface>hardware_interface/EffortJointInterface</hardwareInterface>
            <mechanicalReduction>1</mechanicalReduction>
        </actuator>
    </transmission>
    <transmission name="trans_alex_arm_joint_2_alex">
        <type>transmission_interface/SimpleTransmission</type>
        <joint name="alex_arm_joint_2_alex">
            <hardwareInterface>hardware_interface/EffortJointInterface</hardwareInterface>
        </joint>
        <actuator name="alex_arm_joint_2_alex_motor">
            <hardwareInterface>hardware_interface/EffortJointInterface</hardwareInterface>
            <mechanicalReduction>1</mechanicalReduction>
        </actuator>
    </transmission>
    <transmission name="trans_alex_arm_joint_3_alex">
        <type>transmission_interface/SimpleTransmission</type>
        <joint name="alex_arm_joint_3_alex">
            <hardwareInterface>hardware_interface/EffortJointInterface</hardwareInterface>
        </joint>
        <actuator name="alex_arm_joint_3_alex_motor">
            <hardwareInterface>hardware_interface/EffortJointInterface</hardwareInterface>
            <mechanicalReduction>1</mechanicalReduction>
        </actuator>
    </transmission>
    <transmission name="trans_alex_arm_joint_4_alex">
        <type>transmission_interface/SimpleTransmission</type>
        <joint name="alex_arm_joint_4_alex">
            <hardwareInterface>hardware_interface/EffortJointInterface</hardwareInterface>
        </joint>
        <actuator name="alex_arm_joint_4_alex_motor">
            <hardwareInterface>hardware_interface/EffortJointInterface</hardwareInterface>
            <mechanicalReduction>1</mechanicalReduction>
        </actuator>
    </transmission>
    <transmission name="trans_alex_arm_joint_5_alex">
        <type>transmission_interface/SimpleTransmission</type>
        <joint name="alex_arm_joint_5_alex">
            <hardwareInterface>hardware_interface/EffortJointInterface</hardwareInterface>
        </joint>
        <actuator name="alex_arm_joint_5_alex_motor">
            <hardwareInterface>hardware_interface/EffortJointInterface</hardwareInterface>
            <mechanicalReduction>1</mechanicalReduction>
        </actuator>
    </transmission>
    <transmission name="trans_alex_arm_joint_6_alex">
        <type>transmission_interface/SimpleTransmission</type>
        <joint name="alex_arm_joint_6_alex">
            <hardwareInterface>hardware_interface/EffortJointInterface</hardwareInterface>
        </joint>
        <actuator name="alex_arm_joint_6_alex_motor">
            <hardwareInterface>hardware_interface/EffortJointInterface</hardwareInterface>
            <mechanicalReduction>1</mechanicalReduction>
        </actuator>
    </transmission>
    <transmission name="trans_coco_joint_link_1_coco">
        <type>transmission_interface/SimpleTransmission</type>
        <joint name="coco_joint_link_1_coco">
            <hardwareInterface>hardware_interface/EffortJointInterface</hardwareInterface>
        </joint>
        <actuator name="coco_joint_link_1_coco_motor">
            <hardwareInterface>hardware_interface/EffortJointInterface</hardwareInterface>
            <mechanicalReduction>1</mechanicalReduction>
        </actuator>
    </transmission>
    <transmission name="trans_coco_joint_link_2_coco">
        <type>transmission_interface/SimpleTransmission</type>
        <joint name="coco_joint_link_2_coco">
            <hardwareInterface>hardware_interface/EffortJointInterface</hardwareInterface>
        </joint>
        <actuator name="coco_joint_link_2_coco_motor">
            <hardwareInterface>hardware_interface/EffortJointInterface</hardwareInterface>
            <mechanicalReduction>1</mechanicalReduction>
        </actuator>
    </transmission>
    <transmission name="trans_coco_joint_link_3_coco">
        <type>transmission_interface/SimpleTransmission</type>
        <joint name="coco_joint_link_3_coco">
            <hardwareInterface>hardware_interface/EffortJointInterface</hardwareInterface>
        </joint>
        <actuator name="coco_joint_link_3_coco_motor">
            <hardwareInterface>hardware_interface/EffortJointInterface</hardwareInterface>
            <mechanicalReduction>1</mechanicalReduction>
        </actuator>
    </transmission>
    <transmission name="trans_coco_joint_link_4_coco">
        <type>transmission_interface/SimpleTransmission</type>
        <joint name="coco_joint_link_4_coco">
            <hardwareInterface>hardware_interface/EffortJointInterface</hardwareInterface>
        </joint>
        <actuator name="coco_joint_link_4_coco_motor">
            <hardwareInterface>hardware_interface/EffortJointInterface</hardwareInterface>
            <mechanicalReduction>1</mechanicalReduction>
        </actuator>
    </transmission>
    <transmission name="trans_coco_joint_link_5_coco">
        <type>transmission_interface/SimpleTransmission</type>
        <joint name="coco_joint_link_5_coco">
            <hardwareInterface>hardware_interface/EffortJointInterface</hardwareInterface>
        </joint>
        <actuator name="coco_joint_link_5_coco_motor">
            <hardwareInterface>hardware_interface/EffortJointInterface</hardwareInterface>
            <mechanicalReduction>1</mechanicalReduction>
        </actuator>
    </transmission>
    <transmission name="trans_coco_arm_joint_6_coco">
        <type>transmission_interface/SimpleTransmission</type>
        <joint name="coco_arm_joint_6_coco">
            <hardwareInterface>hardware_interface/EffortJointInterface</hardwareInterface>
        </joint>
        <actuator name="coco_arm_joint_6_coco_motor">
            <hardwareInterface>hardware_interface/EffortJointInterface</hardwareInterface>
            <mechanicalReduction>1</mechanicalReduction>
        </actuator>
    </transmission>
    <transmission name="trans_yuzi_arm_joint_1_yuzi">
        <type>transmission_interface/SimpleTransmission</type>
        <joint name="yuzi_arm_joint_1_yuzi">
            <hardwareInterface>hardware_interface/EffortJointInterface</hardwareInterface>
        </joint>
        <actuator name="yuzi_arm_joint_1_yuzi_motor">
            <hardwareInterface>hardware_interface/EffortJointInterface</hardwareInterface>
            <mechanicalReduction>1</mechanicalReduction>
        </actuator>
    </transmission>
    <transmission name="trans_yuzi_arm_joint_2_yuzi">
        <type>transmission_interface/SimpleTransmission</type>
        <joint name="yuzi_arm_joint_2_yuzi">
            <hardwareInterface>hardware_interface/EffortJointInterface</hardwareInterface>
        </joint>
        <actuator name="yuzi_arm_joint_2_yuzi_motor">
            <hardwareInterface>hardware_interface/EffortJointInterface</hardwareInterface>
            <mechanicalReduction>1</mechanicalReduction>
        </actuator>
    </transmission>
    <transmission name="trans_yuzi_arm_joint_3_yuzi">
        <type>transmission_interface/SimpleTransmission</type>
        <joint name="yuzi_arm_joint_3_yuzi">
            <hardwareInterface>hardware_interface/EffortJointInterface</hardwareInterface>
        </joint>
        <actuator name="yuzi_arm_joint_3_yuzi_motor">
            <hardwareInterface>hardware_interface/EffortJointInterface</hardwareInterface>
            <mechanicalReduction>1</mechanicalReduction>
        </actuator>
    </transmission>
    <transmission name="trans_yuzi_arm_joint_4_yuzi">
        <type>transmission_interface/SimpleTransmission</type>
        <joint name="yuzi_arm_joint_4_yuzi">
            <hardwareInterface>hardware_interface/EffortJointInterface</hardwareInterface>
        </joint>
        <actuator name="yuzi_arm_joint_4_yuzi_motor">
            <hardwareInterface>hardware_interface/EffortJointInterface</hardwareInterface>
            <mechanicalReduction>1</mechanicalReduction>
        </actuator>
    </transmission>
    <transmission name="trans_yuzi_arm_joint_5_yuzi">
        <type>transmission_interface/SimpleTransmission</type>
        <joint name="yuzi_arm_joint_5_yuzi">
            <hardwareInterface>hardware_interface/EffortJointInterface</hardwareInterface>
        </joint>
        <actuator name="yuzi_arm_joint_5_yuzi_motor">
            <hardwareInterface>hardware_interface/EffortJointInterface</hardwareInterface>
            <mechanicalReduction>1</mechanicalReduction>
        </actuator>
    </transmission>
    <transmission name="trans_yuzi_arm_joint_6_yuzi">
        <type>transmission_interface/SimpleTransmission</type>
        <joint name="yuzi_arm_joint_6_yuzi">
            <hardwareInterface>hardware_interface/EffortJointInterface</hardwareInterface>
        </joint>
        <actuator name="yuzi_arm_joint_6_yuzi_motor">
            <hardwareInterface>hardware_interface/EffortJointInterface</hardwareInterface>
            <mechanicalReduction>1</mechanicalReduction>
        </actuator>
    </transmission>
    <gazebo>
        <plugin name="gazebo_ros_control" filename="libgazebo_ros_control.so">
            <robotNamespace>/</robotNamespace>
        </plugin>
    </gazebo>
</robot>
